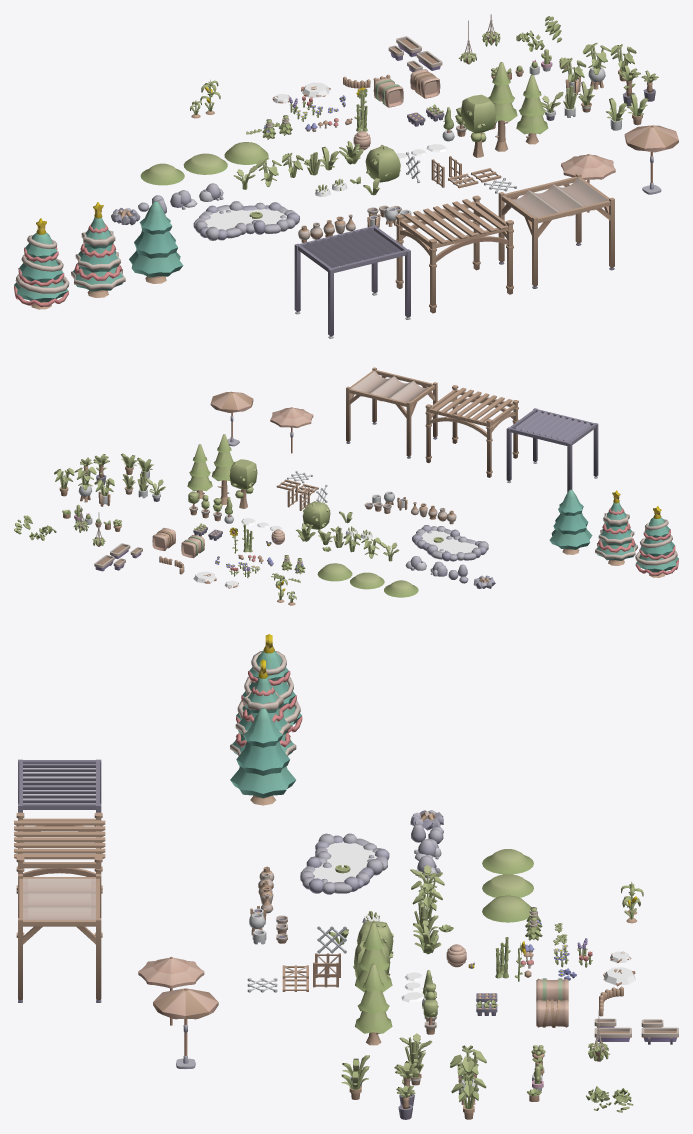
Rendered from plants.glb.
The picture shows the model from 3 angles, top to bottom: view 1: azimuth 30°, elevation 25°; view 2: azimuth 150°, elevation 25°; view 3: azimuth 270°, elevation 25°; orthographic projection. The views are drawn at different scales.
Visible parts, largest first — view 1: pergola-wood, pergola-canvas, pergola-shutters, tree-christmas-decorated-b, tree-christmas-decorated-a, pond, tree-christmas, tree-default, tree-pine-high, parasol-simple, tree-pine, parasol (+8 smaller); view 2: pergola-wood, pergola-canvas, pergola-shutters, tree-christmas-decorated-b, tree-christmas-decorated-a, pond, tree-christmas, tree-default, tree-pine-high, parasol-simple, tree-pine, parasol (+7 smaller); view 3: pergola-canvas, pergola-wood, pergola-shutters, pond, tree-christmas, tree-christmas-decorated-b, tree-christmas-decorated-a, parasol-simple, tree-pine, parasol, tree-pine-high, hill (+4 smaller).
Part boxes in pixels (x1,y1,x2,y2): pergola-wood: (395, 195, 513, 313); pergola-canvas: (498, 173, 614, 288); pergola-shutters: (294, 225, 410, 338); tree-christmas-decorated-b: (14, 218, 69, 309); tree-christmas-decorated-a: (71, 202, 125, 297); pond: (193, 201, 299, 240); tree-christmas: (129, 201, 183, 283); tree-default: (461, 94, 495, 157); tree-pine-high: (488, 62, 517, 151); parasol-simple: (624, 125, 678, 183); tree-pine: (516, 74, 548, 144); parasol: (561, 154, 615, 212); pergola-wood: (425, 385, 518, 477); pergola-canvas: (346, 367, 437, 458); pergola-shutters: (506, 408, 598, 492); tree-christmas-decorated-b: (635, 506, 678, 577); tree-christmas-decorated-a: (595, 490, 637, 565); pond: (412, 525, 488, 561); tree-christmas: (549, 489, 592, 554); tree-default: (229, 459, 257, 508); tree-pine-high: (211, 434, 234, 504); parasol-simple: (210, 391, 253, 437); tree-pine: (187, 444, 212, 498); parasol: (270, 407, 313, 453); pergola-canvas: (18, 874, 101, 1002); pergola-wood: (14, 812, 105, 937); pergola-shutters: (18, 759, 101, 812); pond: (300, 833, 389, 894); tree-christmas: (230, 708, 295, 805); tree-christmas-decorated-b: (236, 634, 302, 733); tree-christmas-decorated-a: (230, 659, 296, 756); parasol-simple: (153, 988, 218, 1056); tree-pine: (355, 963, 392, 1045); parasol: (138, 956, 204, 1025); tree-pine-high: (355, 922, 392, 992); hill: (482, 895, 531, 922).
Bounding box in the file's own units: 18.32 × 2.35 × 12.76.
